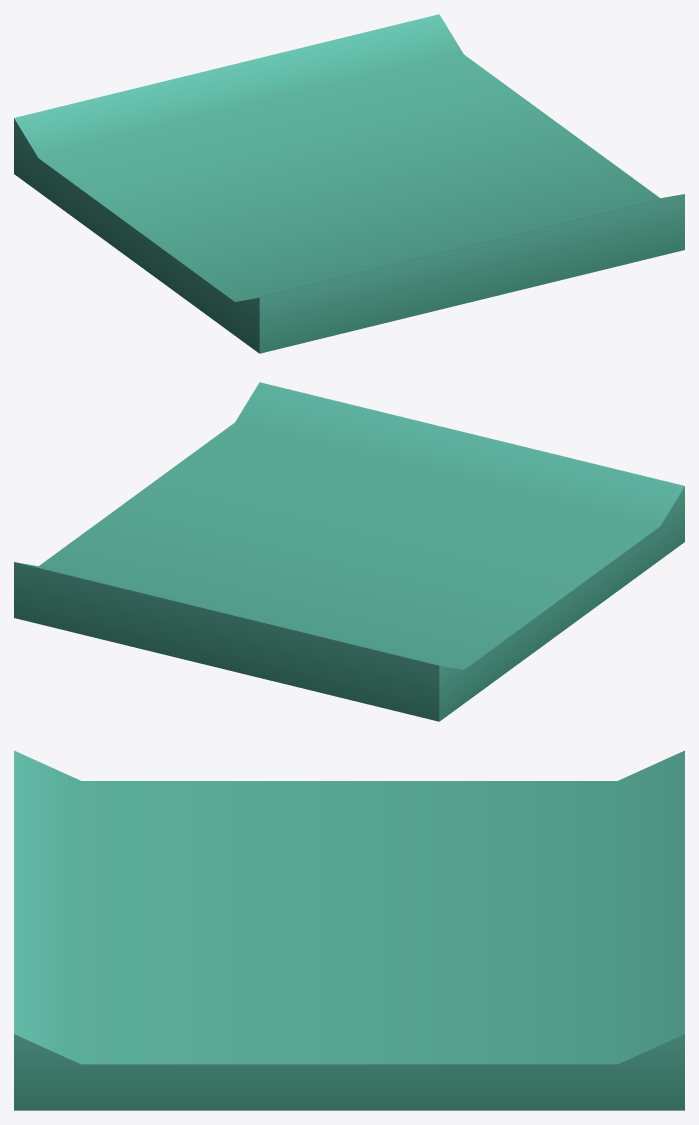
Rendered from ot-roof-flat.glb.
3 views of the same model, one above another, from view 1: azimuth 30°, elevation 25°; view 2: azimuth 150°, elevation 25°; view 3: azimuth 270°, elevation 25° (orthographic). The views are drawn at different scales.
Visible parts, largest first — view 1: roof-flat; view 2: roof-flat; view 3: roof-flat.
Part boxes in pixels (bbox=[...]): roof-flat: bbox=[14, 14, 684, 353]; roof-flat: bbox=[14, 382, 684, 721]; roof-flat: bbox=[14, 750, 684, 1110].
Bounding box in the file's own units: 1 × 0.1259 × 1.
Materials: 1 (1 with a texture image).
